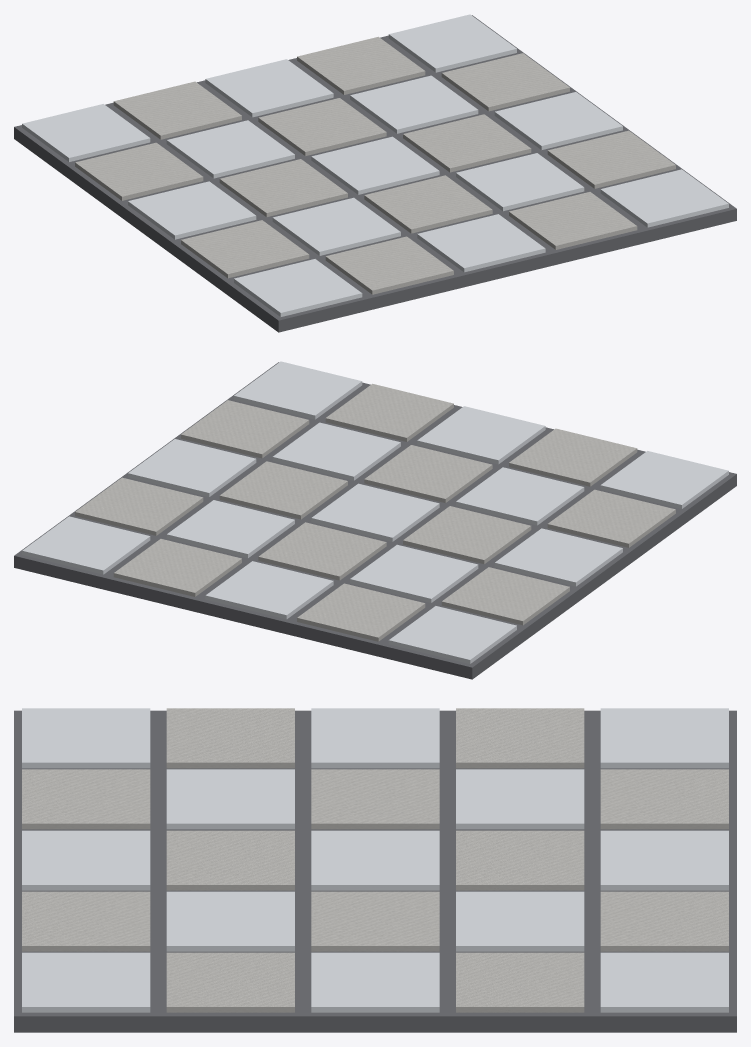
Rendered from street-food-market-and-food-trucks-market-floor-tile-c-fd6993a4__34298.glb.
3 renders of one model, top to bottom at view 1: azimuth 30°, elevation 25°; view 2: azimuth 150°, elevation 25°; view 3: azimuth 270°, elevation 25°, orthographic. The views are drawn at different scales.
Visible parts, largest first — view 1: market-floor-tile-cobble-steel, market-floor-tile-cobble-concrete, market-floor-tile-cobble-charcoal; view 2: market-floor-tile-cobble-steel, market-floor-tile-cobble-concrete, market-floor-tile-cobble-charcoal; view 3: market-floor-tile-cobble-steel, market-floor-tile-cobble-concrete, market-floor-tile-cobble-charcoal.
Boxes of the visible parts, bbox=[...] form: market-floor-tile-cobble-steel: bbox=[22, 14, 728, 316]; market-floor-tile-cobble-concrete: bbox=[75, 36, 675, 294]; market-floor-tile-cobble-charcoal: bbox=[14, 15, 736, 332]; market-floor-tile-cobble-steel: bbox=[22, 361, 728, 663]; market-floor-tile-cobble-concrete: bbox=[75, 383, 675, 641]; market-floor-tile-cobble-charcoal: bbox=[14, 362, 736, 679]; market-floor-tile-cobble-steel: bbox=[22, 708, 728, 1012]; market-floor-tile-cobble-concrete: bbox=[22, 708, 728, 1012]; market-floor-tile-cobble-charcoal: bbox=[14, 710, 736, 1032].
Bounding box in the file's own units: 4 × 0.135 × 4.
Materials: 3 (1 with a texture image).
